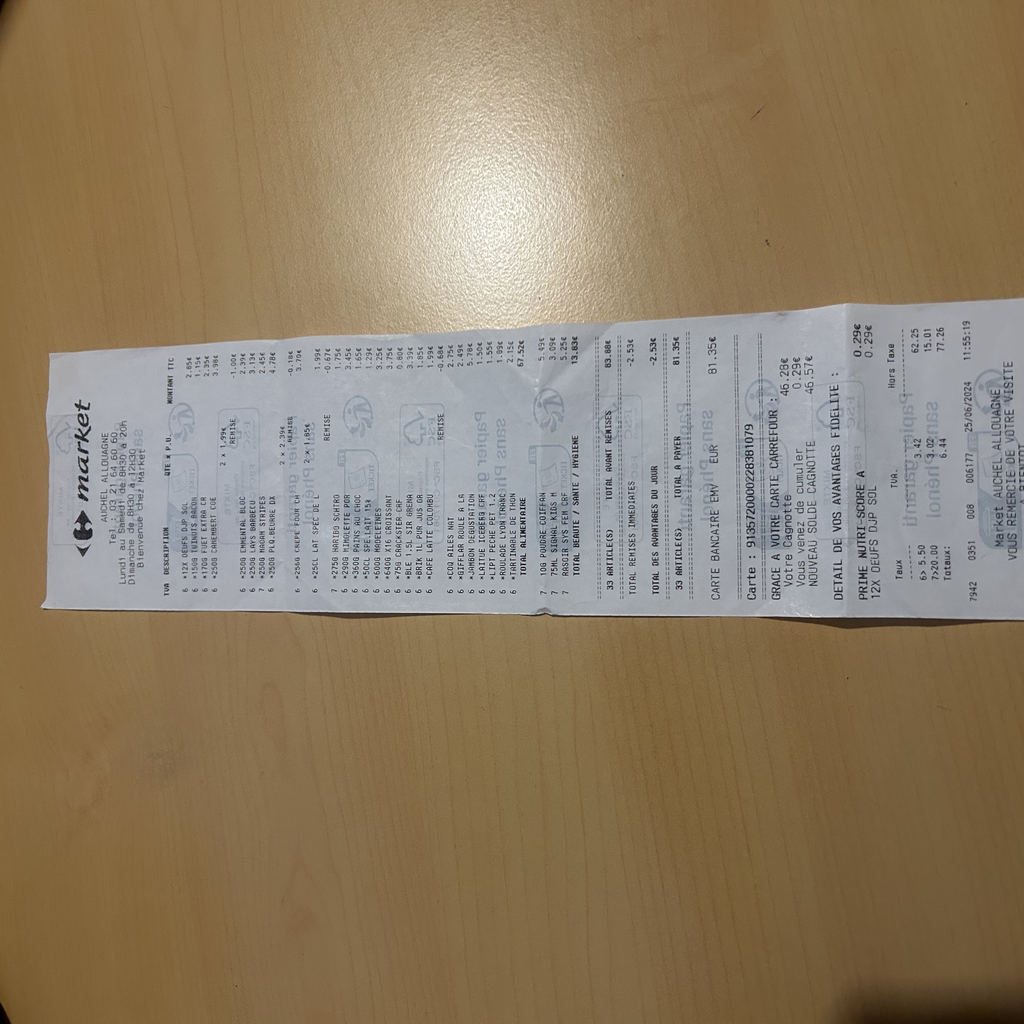recipt: (46, 296, 1022, 617)
